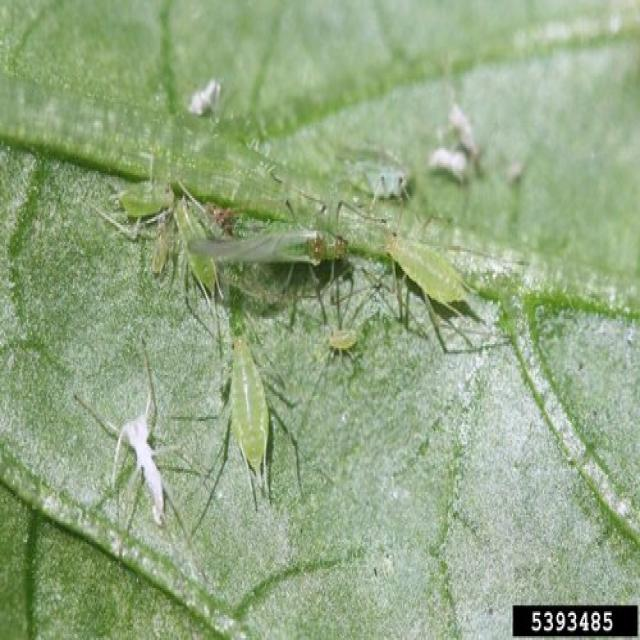aphid: (207, 331, 306, 497), (372, 210, 489, 345), (102, 157, 180, 243)
